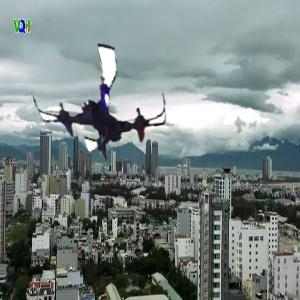drone: (32, 34, 170, 172)
